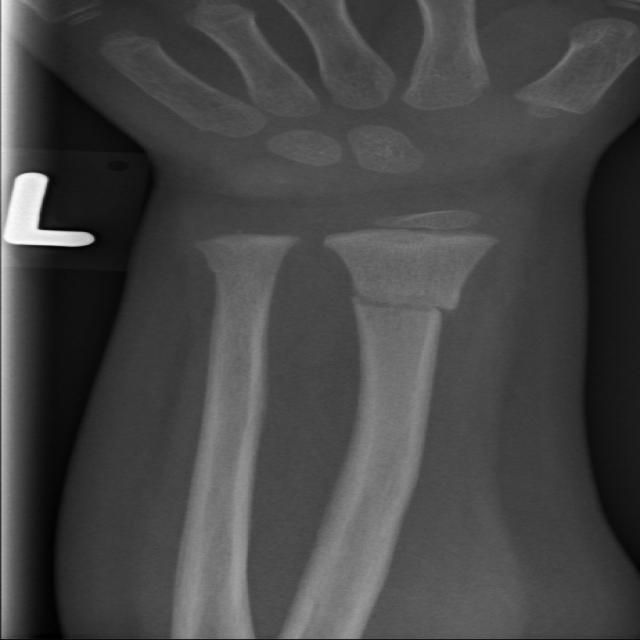radius fracture: (316, 260, 512, 408)
